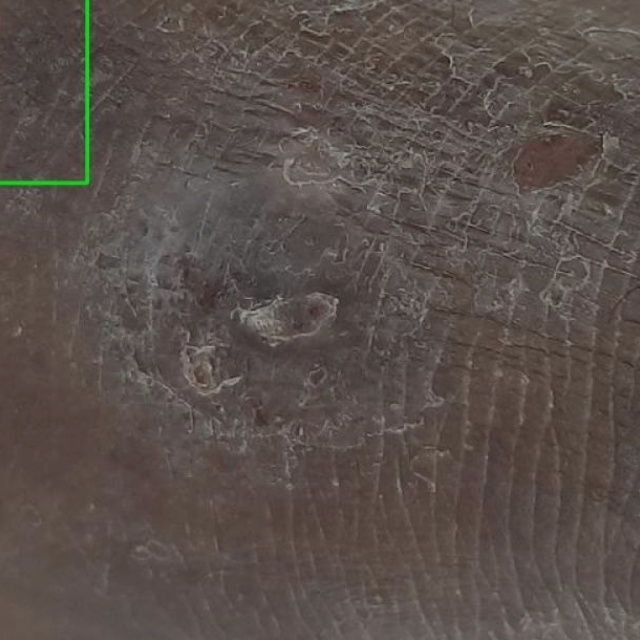Eczema: (0, 0, 87, 182)
